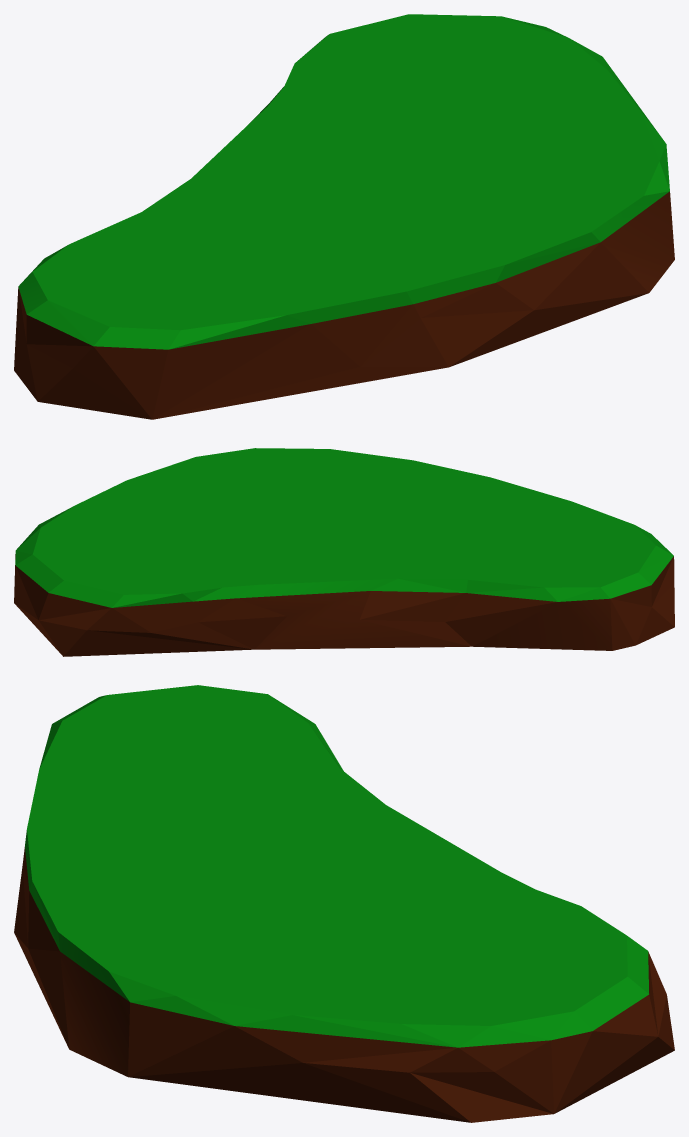
File: ElevatedGround_4.fbx
3 renders of one model, top to bottom at view 1: azimuth 30°, elevation 25°; view 2: azimuth 150°, elevation 25°; view 3: azimuth 270°, elevation 25°, orthographic. The views are drawn at different scales.
Parts seen in each view (by area): view 1: ElevatedGround_4; view 2: ElevatedGround_4; view 3: ElevatedGround_4.
Part boxes in pixels (box(x1,y1,x2,y2)): ElevatedGround_4: box(14, 14, 674, 419); ElevatedGround_4: box(14, 448, 674, 656); ElevatedGround_4: box(14, 685, 674, 1122).
Size of the model in its own units: 2414 by 260 by 1832.
